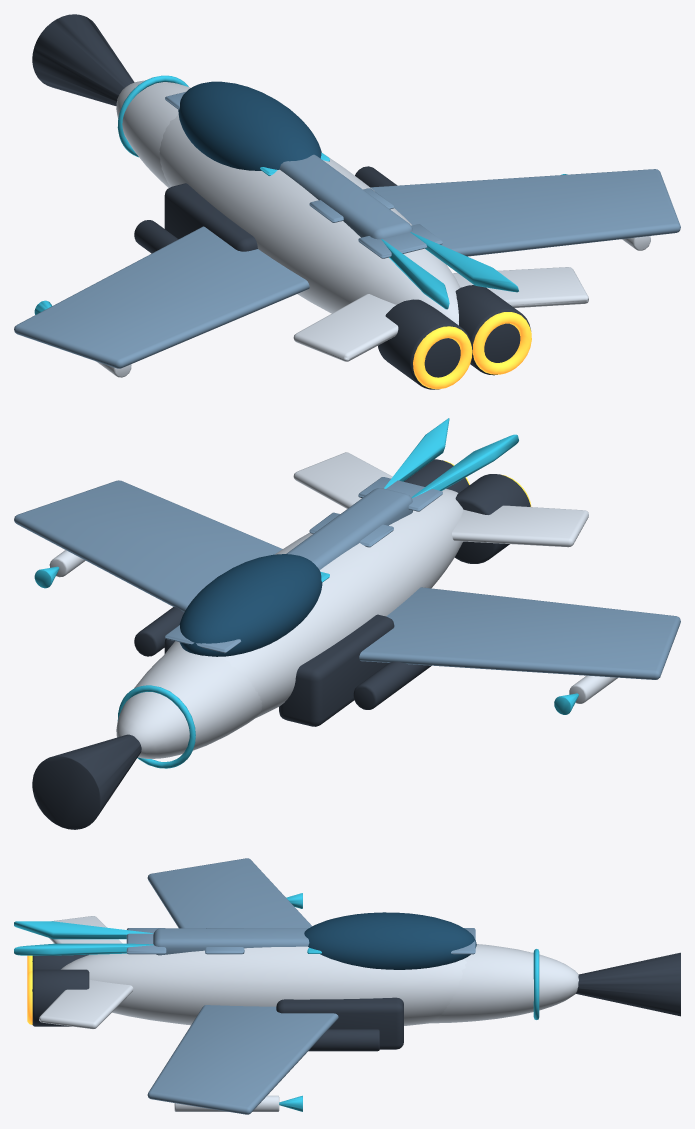
Rendered from player_fighter.glb.
3 renders of one model, top to bottom at view 1: azimuth 30°, elevation 25°; view 2: azimuth 150°, elevation 25°; view 3: azimuth 270°, elevation 25°, orthographic. The views are drawn at different scales.
Parts seen in each view (by area): view 1: ASSET_player_fighter; view 2: ASSET_player_fighter; view 3: ASSET_player_fighter.
Part boxes in pixels (x1,y1,x2,y2): ASSET_player_fighter: (14,14,680,389); ASSET_player_fighter: (14,418,680,829); ASSET_player_fighter: (14,858,680,1114).
Size of the model in its own units: 5.42 by 1.07 by 6.06.
